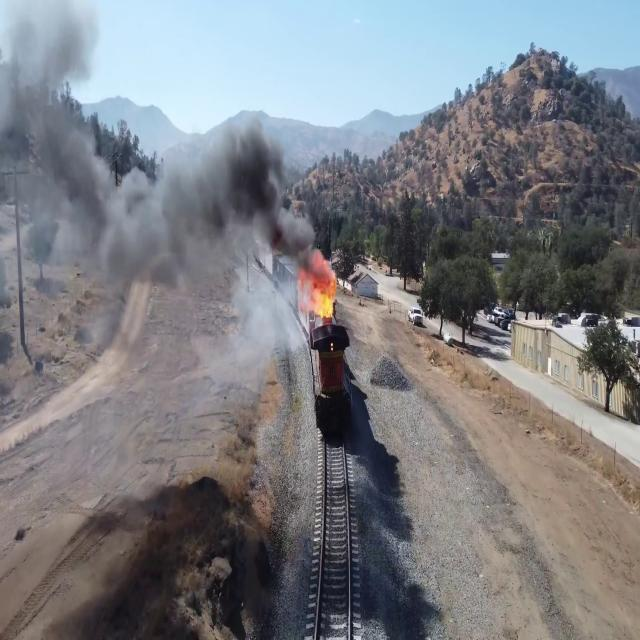Fire: (301, 252, 339, 323)
Smoke: (159, 146, 241, 276), (234, 110, 297, 223), (112, 175, 176, 274), (0, 0, 88, 70), (56, 119, 101, 239)
